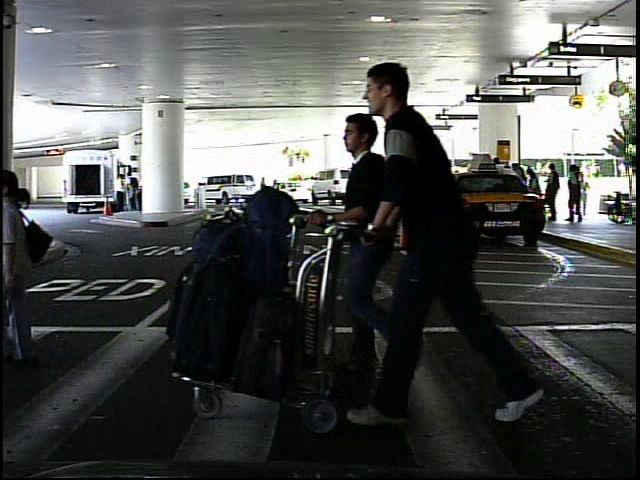person: (371, 47, 534, 426), (324, 115, 402, 388), (579, 171, 598, 219), (114, 172, 128, 213)
